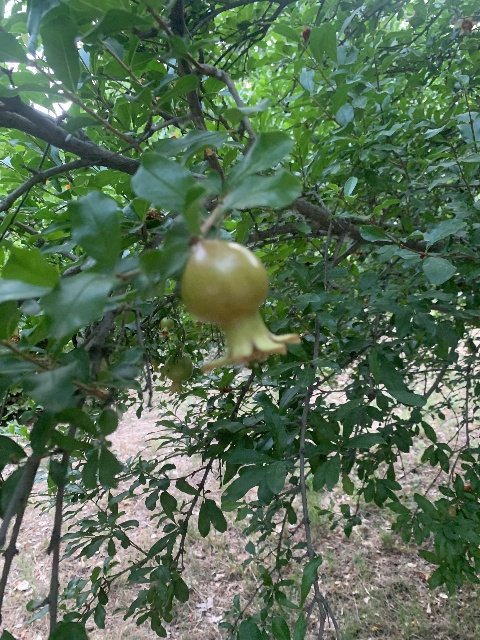mid-growth: (180, 239, 302, 374), (163, 356, 193, 396), (157, 316, 174, 337), (150, 357, 160, 372)
